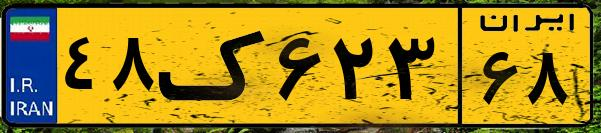2: (330, 28, 385, 110)
3: (385, 28, 445, 110)
4: (57, 26, 110, 100)
6: (270, 28, 330, 110), (475, 38, 525, 113)
8: (525, 38, 570, 115), (110, 28, 158, 98)
ک: (158, 12, 270, 120)
